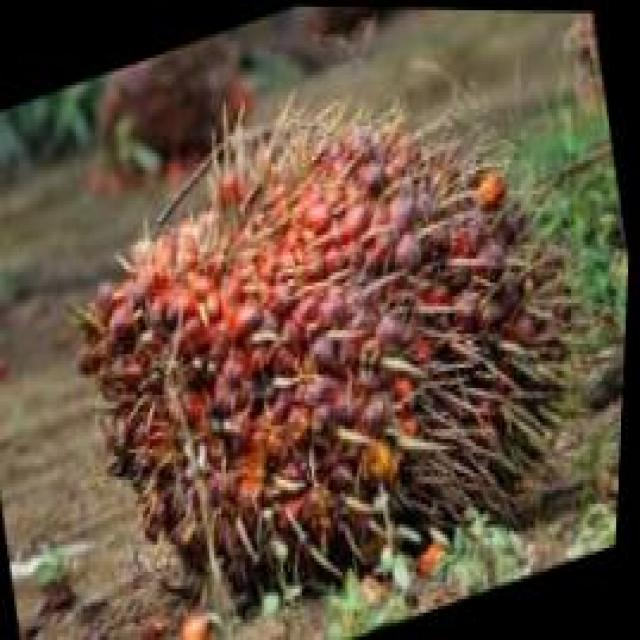Ripefruit: (47, 0, 624, 640)
